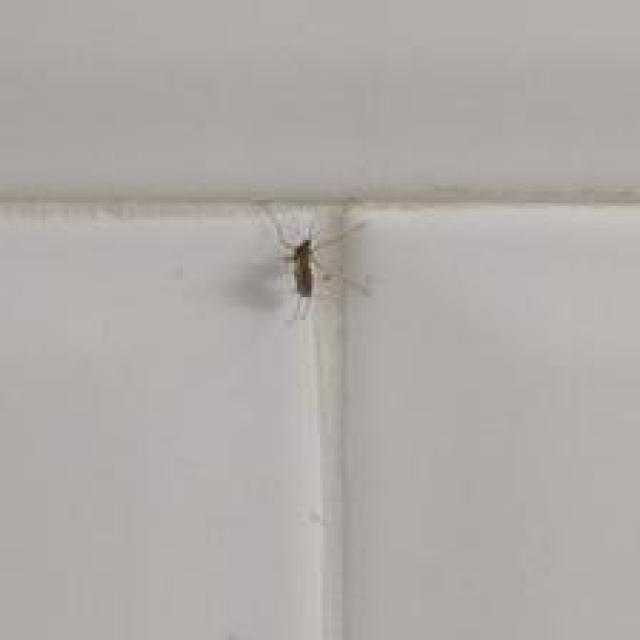Culex: (250, 200, 370, 323)
